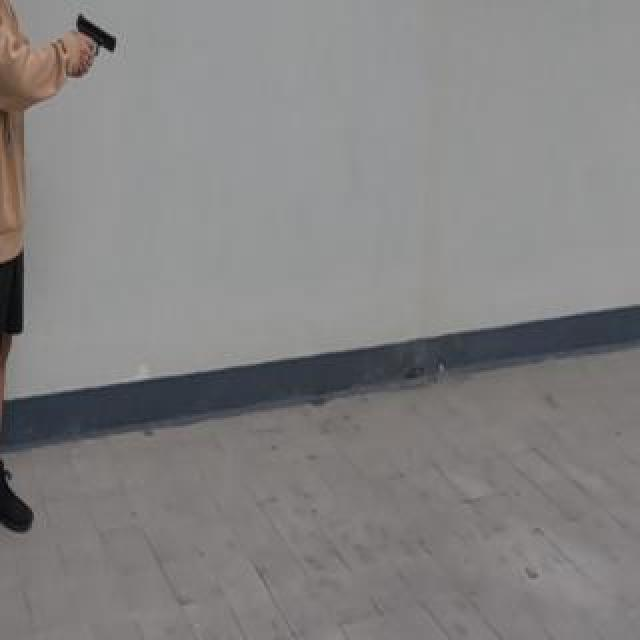Guns: (66, 7, 134, 67)
